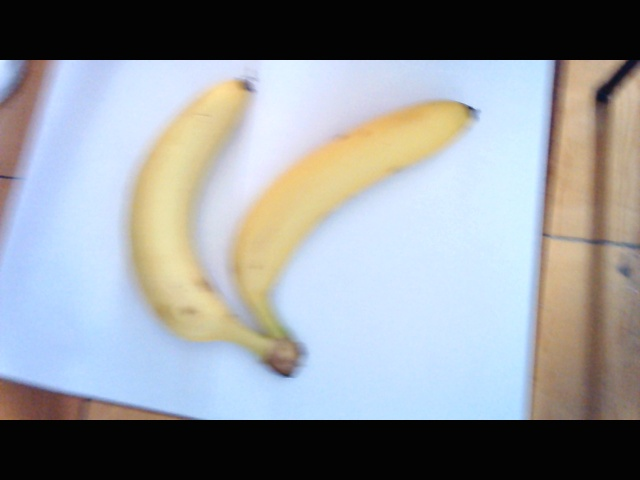banana: (232, 82, 484, 349), (114, 72, 229, 350)
